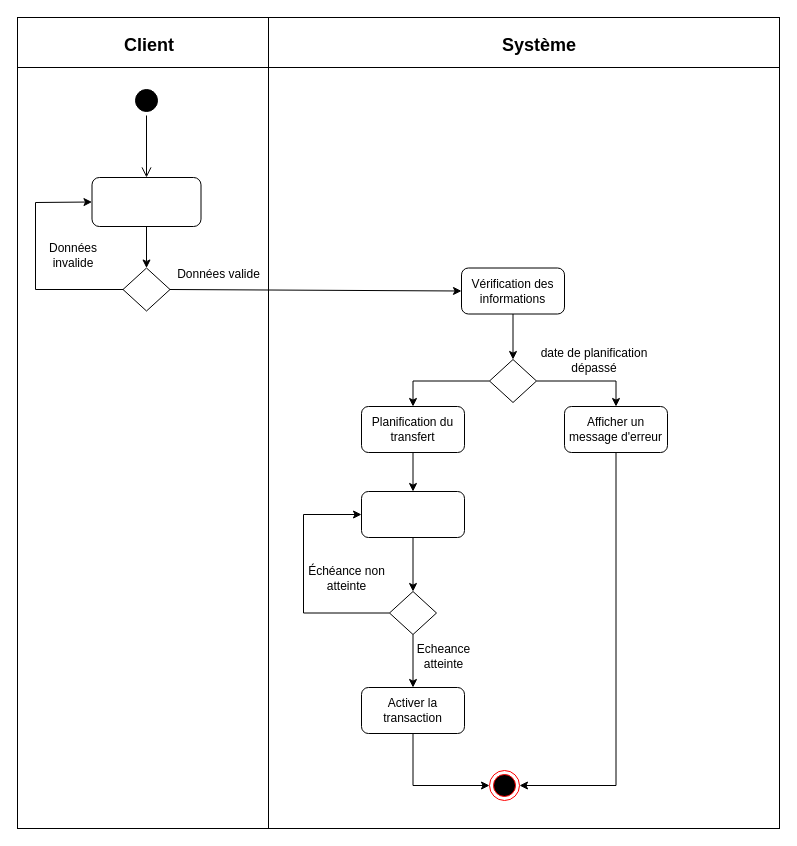
The diagram is 797 pixels wide and 846 high, and some of its shapes have lost their labels. Each missing label, with the centre of its shape:
"Remplir le formulaire" belongs at pixel 146 201.
"Vérification de la date" belongs at pixel 412 514.
